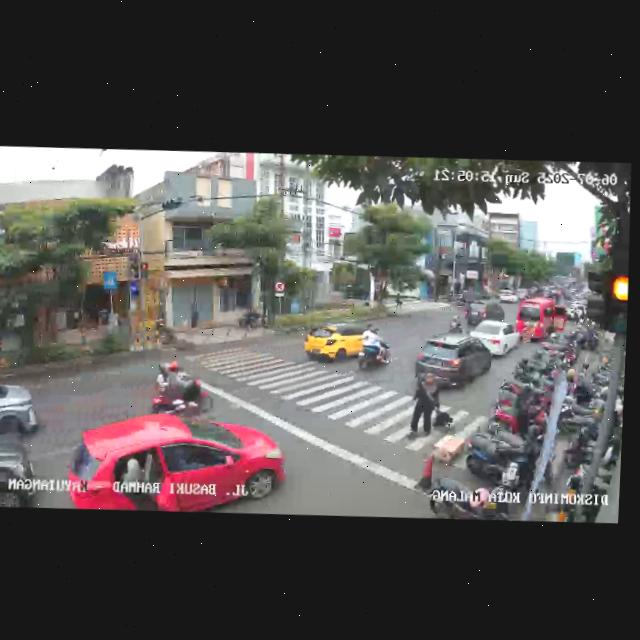car: (66, 406, 287, 518), (414, 332, 493, 393), (303, 319, 369, 369), (0, 432, 41, 507), (0, 374, 41, 447), (516, 297, 568, 345), (467, 318, 521, 358), (466, 298, 505, 328), (496, 290, 518, 303)
motorcycle: (148, 358, 216, 420), (353, 323, 393, 373), (447, 309, 463, 333)
person: (405, 370, 440, 443)
